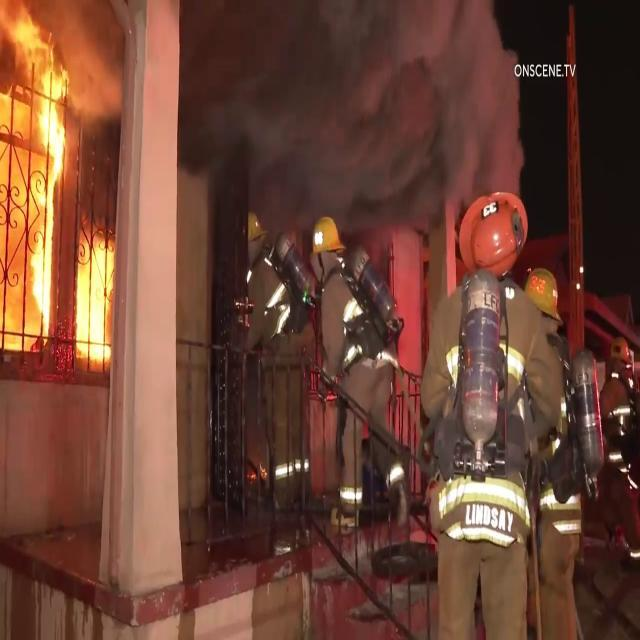Fire: (0, 68, 104, 343)
Smoke: (198, 0, 530, 188)
